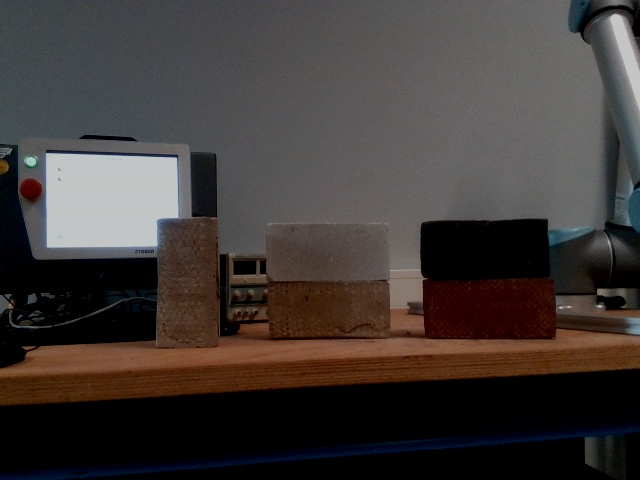brick: (156, 217, 215, 347), (425, 279, 554, 334), (422, 221, 547, 276), (267, 224, 385, 279), (269, 284, 387, 339)
